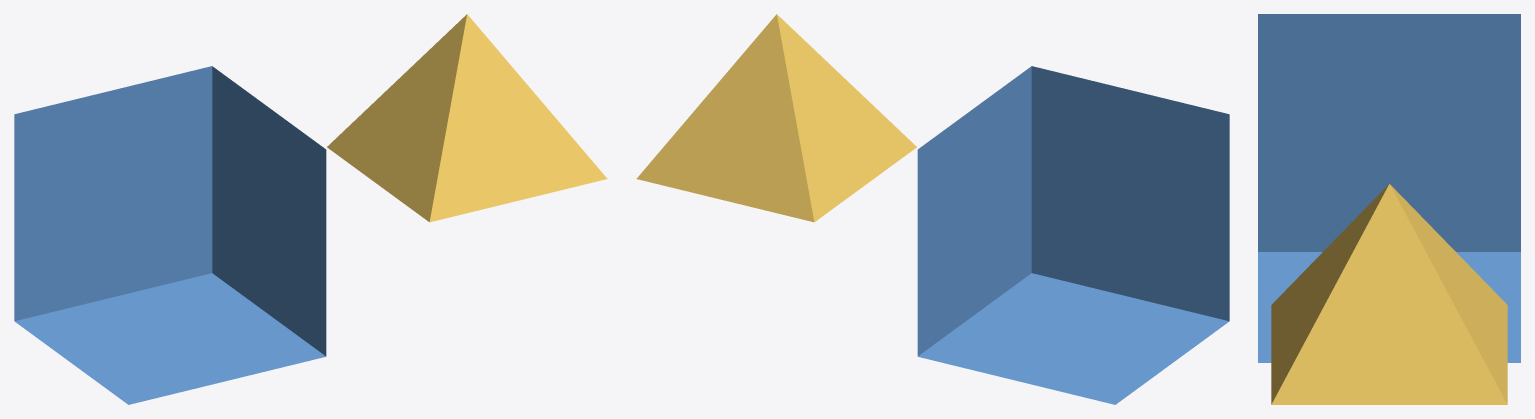
3 renders of one model, left to right at view 1: azimuth 30°, elevation 25°; view 2: azimuth 150°, elevation 25°; view 3: azimuth 270°, elevation 25°, orthographic. The views are drawn at different scales.
Visible parts, largest first — view 1: Cube, Pyramid; view 2: Cube, Pyramid; view 3: Cube, Pyramid.
Boxes of the visible parts, x1=… form: Cube: x1=14, y1=66, x2=326, y2=404; Pyramid: x1=327, y1=14, x2=607, y2=222; Cube: x1=917, y1=66, x2=1229, y2=404; Pyramid: x1=636, y1=14, x2=916, y2=222; Cube: x1=1258, y1=14, x2=1520, y2=362; Pyramid: x1=1271, y1=184, x2=1507, y2=404.
Size of the model in its own units: 4.9 by 2.44 by 2.
